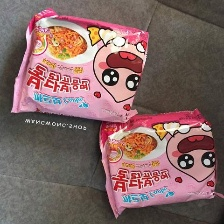snack: (3, 4, 152, 129), (91, 104, 224, 224)
